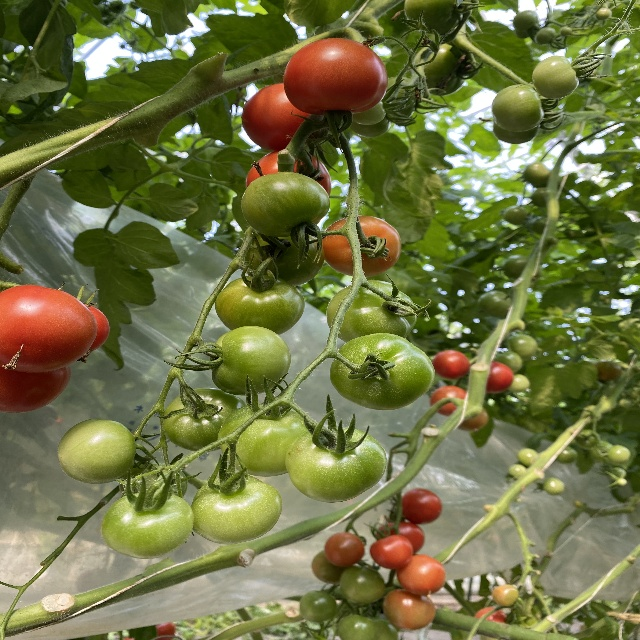l_fully_ripened: (1, 284, 100, 373), (283, 39, 387, 114), (241, 82, 331, 152), (246, 151, 332, 195), (1, 365, 72, 413), (375, 522, 425, 554), (399, 488, 442, 524), (369, 535, 413, 569), (433, 350, 469, 379), (486, 361, 514, 393)
l_green: (330, 332, 435, 410), (285, 426, 388, 503), (217, 405, 315, 477), (191, 474, 283, 546), (99, 492, 194, 560), (240, 171, 331, 238), (160, 387, 247, 454), (325, 280, 417, 342), (209, 326, 290, 396), (215, 275, 305, 334), (57, 418, 137, 484), (243, 230, 325, 287), (414, 41, 468, 96), (491, 84, 545, 133), (118, 463, 188, 496), (532, 56, 580, 99), (403, 0, 459, 36), (381, 77, 421, 122), (339, 566, 386, 603), (337, 614, 398, 640), (299, 589, 337, 623), (492, 122, 540, 145), (344, 101, 387, 126), (346, 115, 393, 137)
l_half_ripened: (321, 213, 400, 278), (382, 590, 436, 631), (396, 554, 446, 595), (323, 531, 366, 566)
